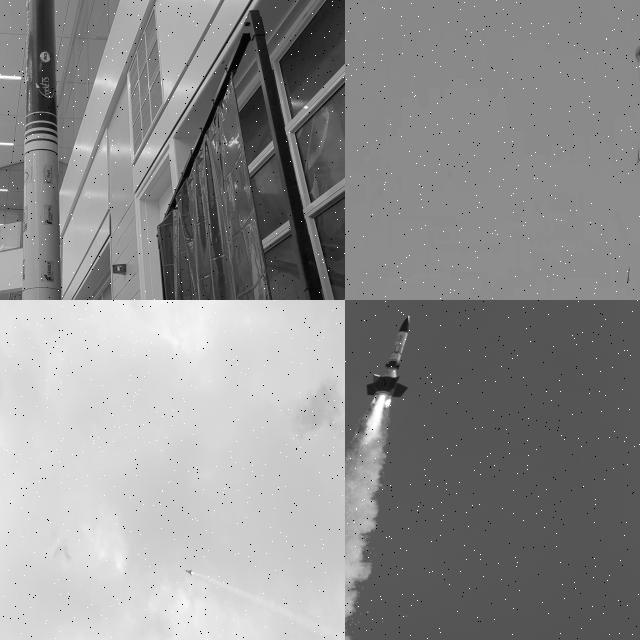Rocket: (22, 0, 62, 300), (366, 315, 412, 398), (184, 568, 193, 576), (626, 266, 630, 283)
